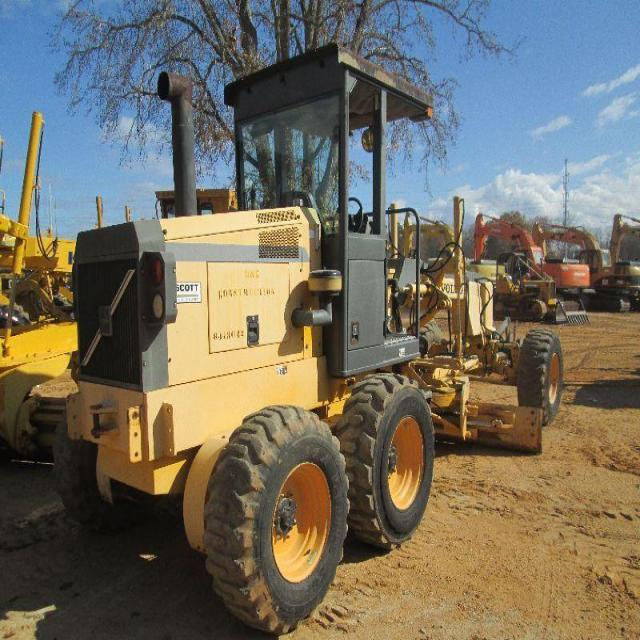Grader: (43, 36, 585, 630)
